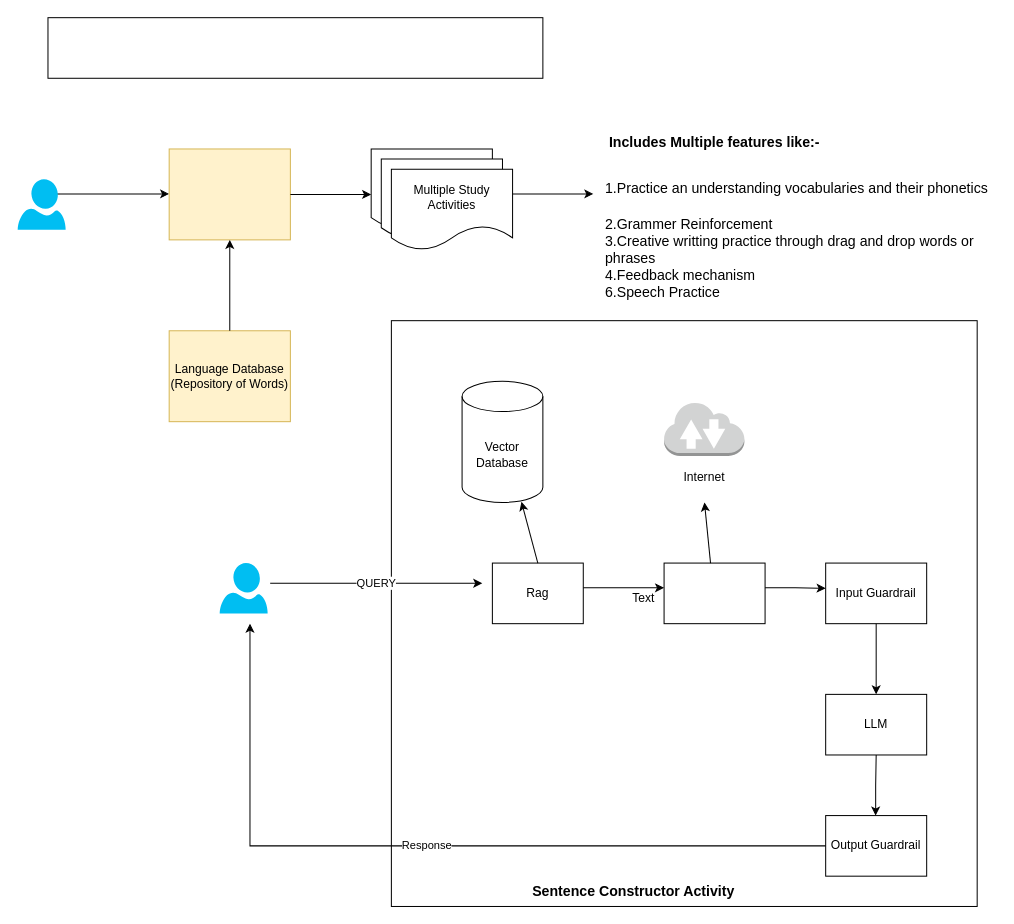
Image size: 1014x924. Some labels were removed from this diagram. The centre of each missing label's shape, as x and y in pixels:
"Conceptual Level Diagram for any Language Sentence Constructor Chatbot" goes at pixel 295 47.
"Prompt Cache" goes at pixel 714 593.
"Spanish Language Tutor Assistant AI" goes at pixel 229 194.
